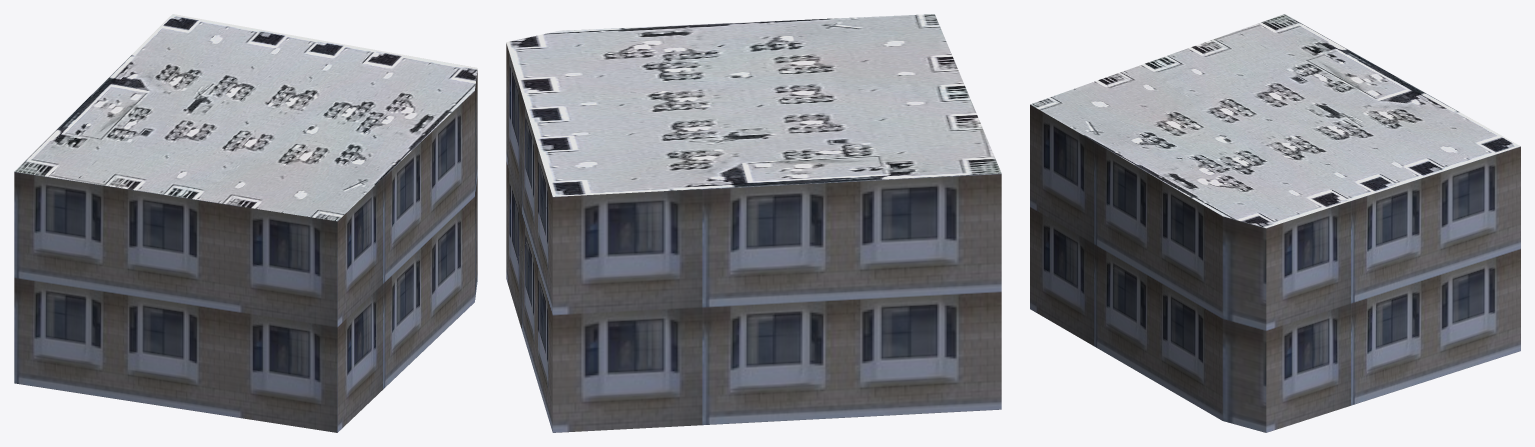
Rendered from ResTex__53.fbx.
The picture shows the model from 3 angles, left to right: view 1: azimuth 30°, elevation 25°; view 2: azimuth 150°, elevation 25°; view 3: azimuth 270°, elevation 25°; orthographic projection. The views are drawn at different scales.
Parts seen in each view (by area): view 1: CityEngineMaterial_3_m, CityEngineMaterial_m; view 2: CityEngineMaterial_3_m, CityEngineMaterial_m; view 3: CityEngineMaterial_3_m, CityEngineMaterial_m.
Boxes of the visible parts, x1,y1,x2,y2 form: CityEngineMaterial_3_m: [14, 70, 477, 432]; CityEngineMaterial_m: [14, 14, 477, 221]; CityEngineMaterial_3_m: [506, 43, 1001, 432]; CityEngineMaterial_m: [506, 14, 1001, 196]; CityEngineMaterial_3_m: [1030, 104, 1520, 432]; CityEngineMaterial_m: [1030, 14, 1520, 228].
Bounding box in the file's own units: 13.47 × 6 × 13.04.
Materials: 2 (2 with a texture image).
